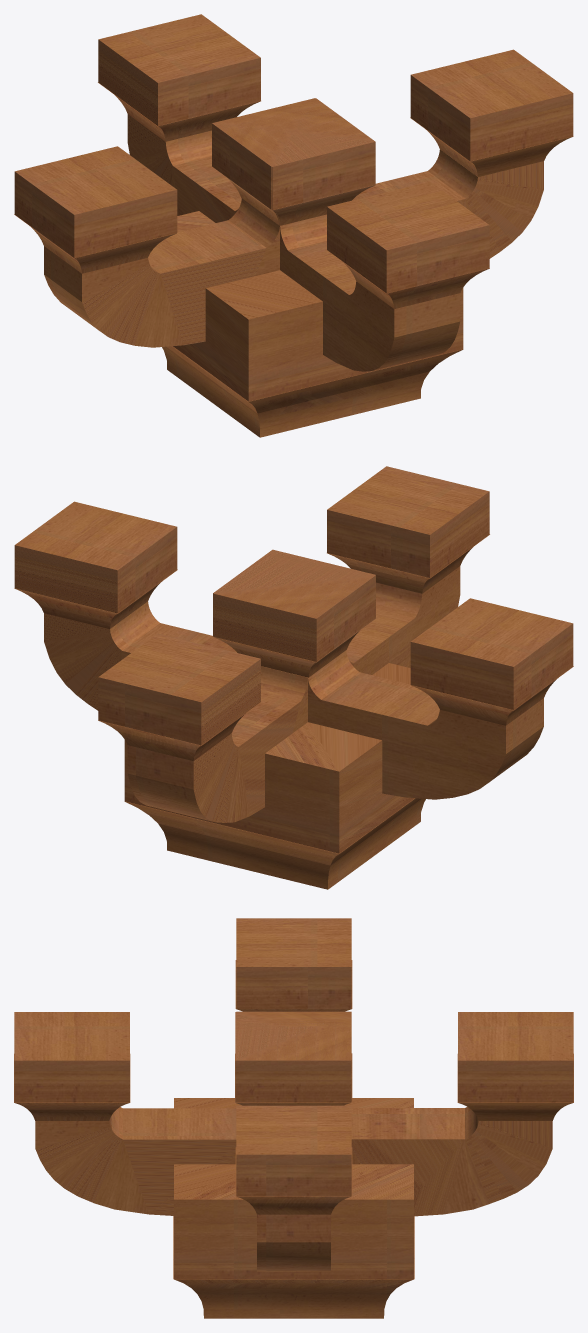
3 renders of one model, top to bottom at view 1: azimuth 30°, elevation 25°; view 2: azimuth 150°, elevation 25°; view 3: azimuth 270°, elevation 25°, orthographic. The views are drawn at different scales.
Visible parts, largest first — view 1: R2L1; view 2: R2L1; view 3: R2L1.
Boxes of the visible parts, bbox=[...] form: R2L1: bbox=[14, 14, 573, 437]; R2L1: bbox=[14, 466, 573, 889]; R2L1: bbox=[14, 918, 573, 1318].
Size of the model in its own units: 38.09 by 18.34 by 38.09.
Materials: 1 (1 with a texture image).
